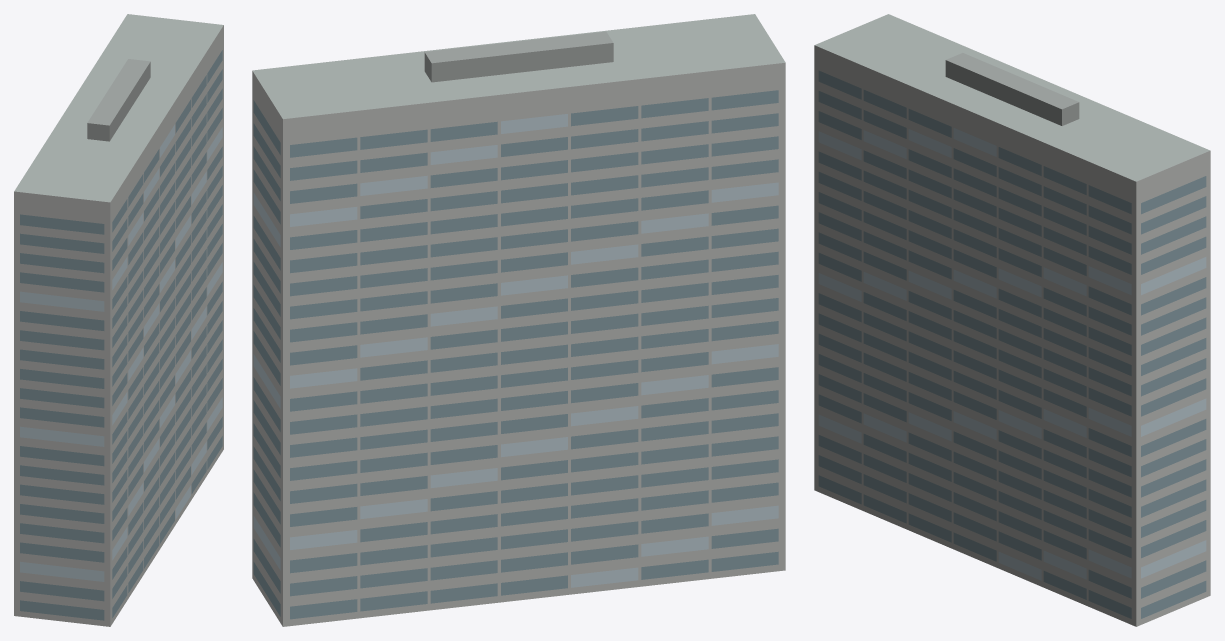
File: fallback-raemian-blesstige-221.glb
The picture shows the model from 3 angles, left to right: view 1: azimuth 30°, elevation 25°; view 2: azimuth 150°, elevation 25°; view 3: azimuth 270°, elevation 25°; orthographic projection. The views are drawn at different scales.
Parts seen in each view (by area): view 1: fallback-raemian-blesstige-221; view 2: fallback-raemian-blesstige-221; view 3: fallback-raemian-blesstige-221.
Boxes of the visible parts, <box> form: fallback-raemian-blesstige-221: <box>14,14,223,626</box>; fallback-raemian-blesstige-221: <box>252,14,785,626</box>; fallback-raemian-blesstige-221: <box>814,14,1210,626</box>.
Size of the model in its own units: 51.41 by 66 by 51.29.
